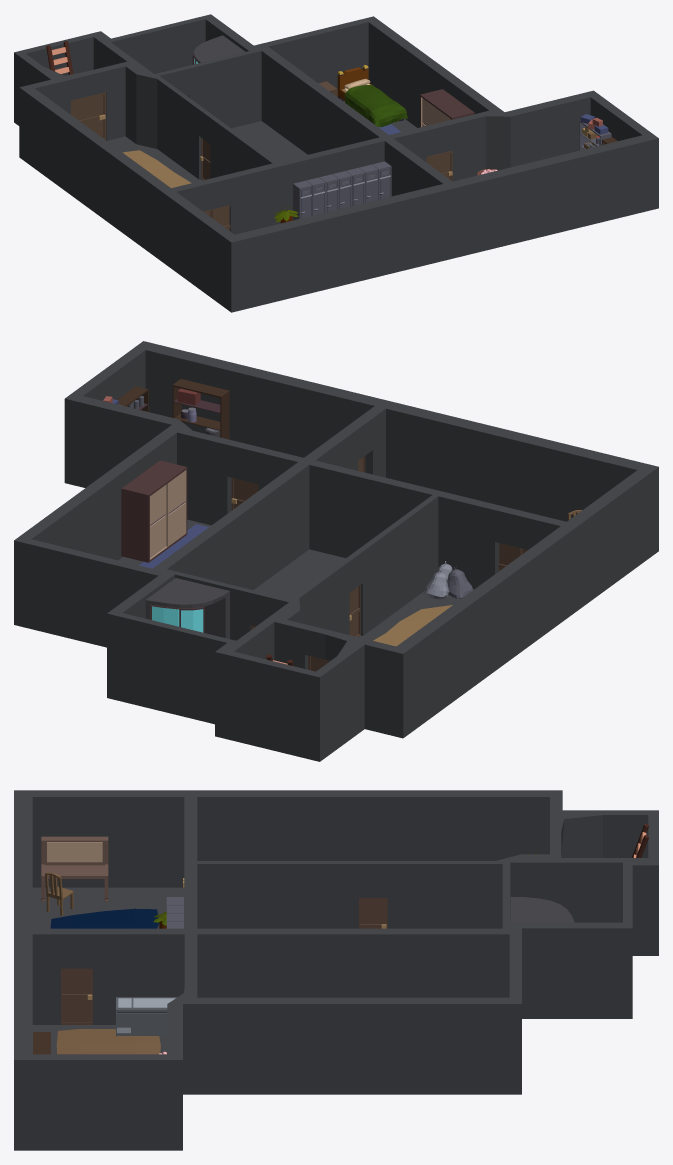
The model's file is bunkerYeni.fbx.
3 views of the same model, one above another, from view 1: azimuth 30°, elevation 25°; view 2: azimuth 150°, elevation 25°; view 3: azimuth 270°, elevation 25° (orthographic). The views are drawn at different scales.
Parts seen in each view (by area): view 1: bunker, lockers, bed, wardrobe, door, carpet.004, shower, storage, ladder, door.006; view 2: bunker, wardrobe, shower, storage.002, carpet.004, carpet.001; view 3: bunker, workbench, carpet.002, freezer, carpet.003, door.005, shower, door.001, chair, lockers.
Part boxes in pixels (x1,y1,x2,y2): bunker: (14, 14, 658, 312); lockers: (293, 161, 391, 220); bed: (337, 65, 407, 127); wardrobe: (420, 89, 474, 127); door: (71, 92, 105, 139); carpet.004: (122, 150, 191, 188); shower: (192, 35, 245, 64); storage: (579, 114, 611, 150); ladder: (46, 41, 73, 74); door.006: (426, 151, 452, 181); bunker: (14, 341, 658, 761); wardrobe: (121, 460, 187, 562); shower: (145, 578, 229, 638); storage.002: (172, 379, 229, 439); carpet.004: (373, 605, 452, 646); carpet.001: (139, 524, 208, 568); bunker: (14, 790, 658, 1150); workbench: (41, 836, 108, 901); carpet.002: (56, 1029, 160, 1054); freezer: (116, 997, 176, 1036); carpet.003: (50, 908, 159, 928); door.005: (61, 968, 92, 1024); shower: (510, 896, 574, 922); door.001: (359, 898, 387, 928); chair: (45, 872, 73, 915); lockers: (166, 897, 183, 928).
Size of the model in its own units: 1186 by 199 by 1198.
